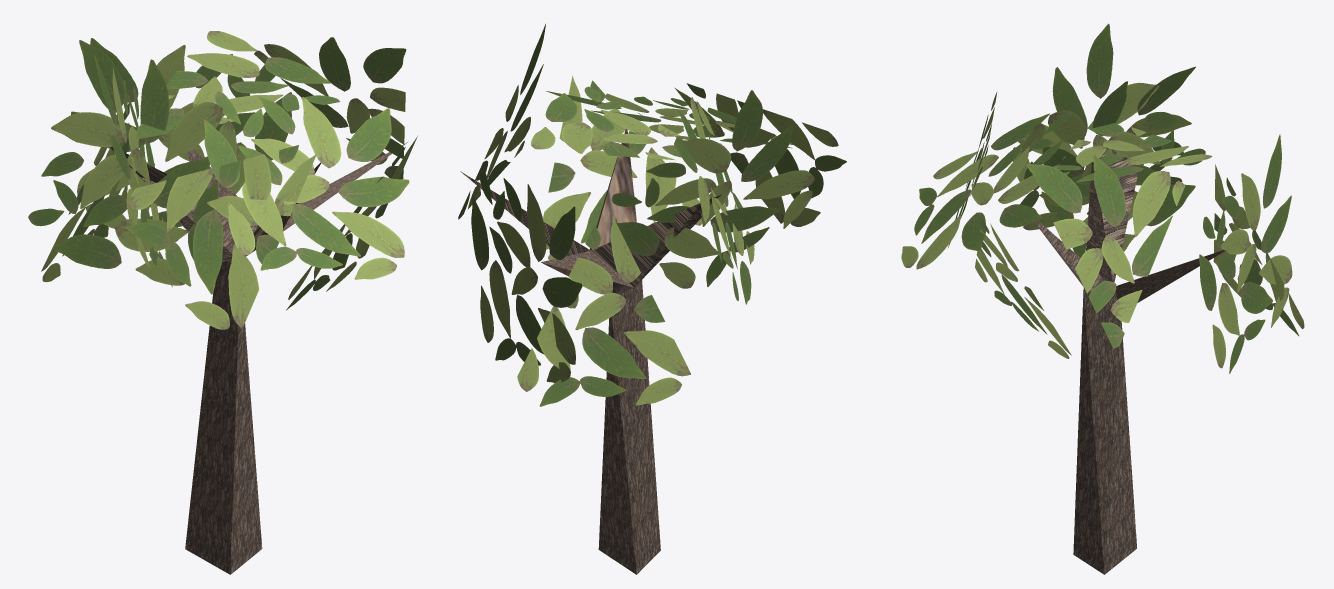
Rendered from Tree_01_LOD2.fbx.
3 renders of one model, left to right at view 1: azimuth 30°, elevation 25°; view 2: azimuth 150°, elevation 25°; view 3: azimuth 270°, elevation 25°, orthographic. The views are drawn at different scales.
Parts seen in each view (by area): view 1: leaf.002, tree.002; view 2: leaf.002, tree.002; view 3: leaf.002, tree.002.
Part boxes in pixels (left/top/right/bottom): leaf.002: left=28, top=31, right=417, bottom=329; tree.002: left=110, top=142, right=407, bottom=574; leaf.002: left=458, top=24, right=846, bottom=406; tree.002: left=460, top=129, right=721, bottom=574; leaf.002: left=901, top=23, right=1304, bottom=373; tree.002: left=1034, top=149, right=1225, bottom=574.
Size of the model in its own units: 7.63 by 10.8 by 8.68.
